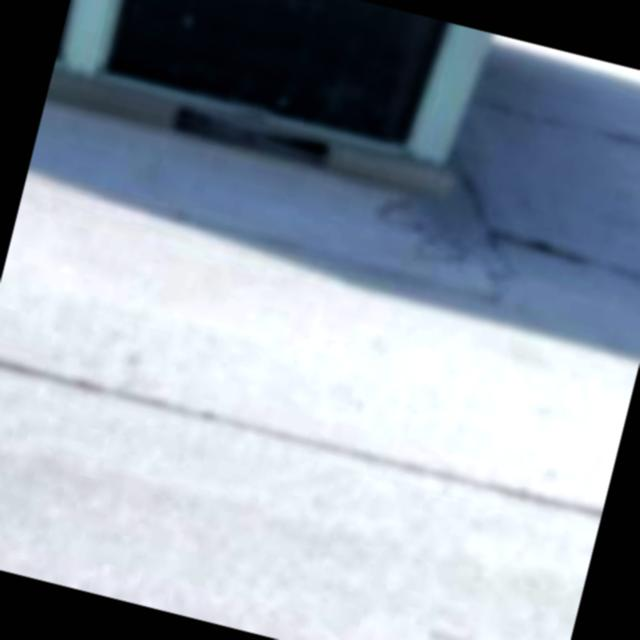RTU: (42, 0, 601, 239)
